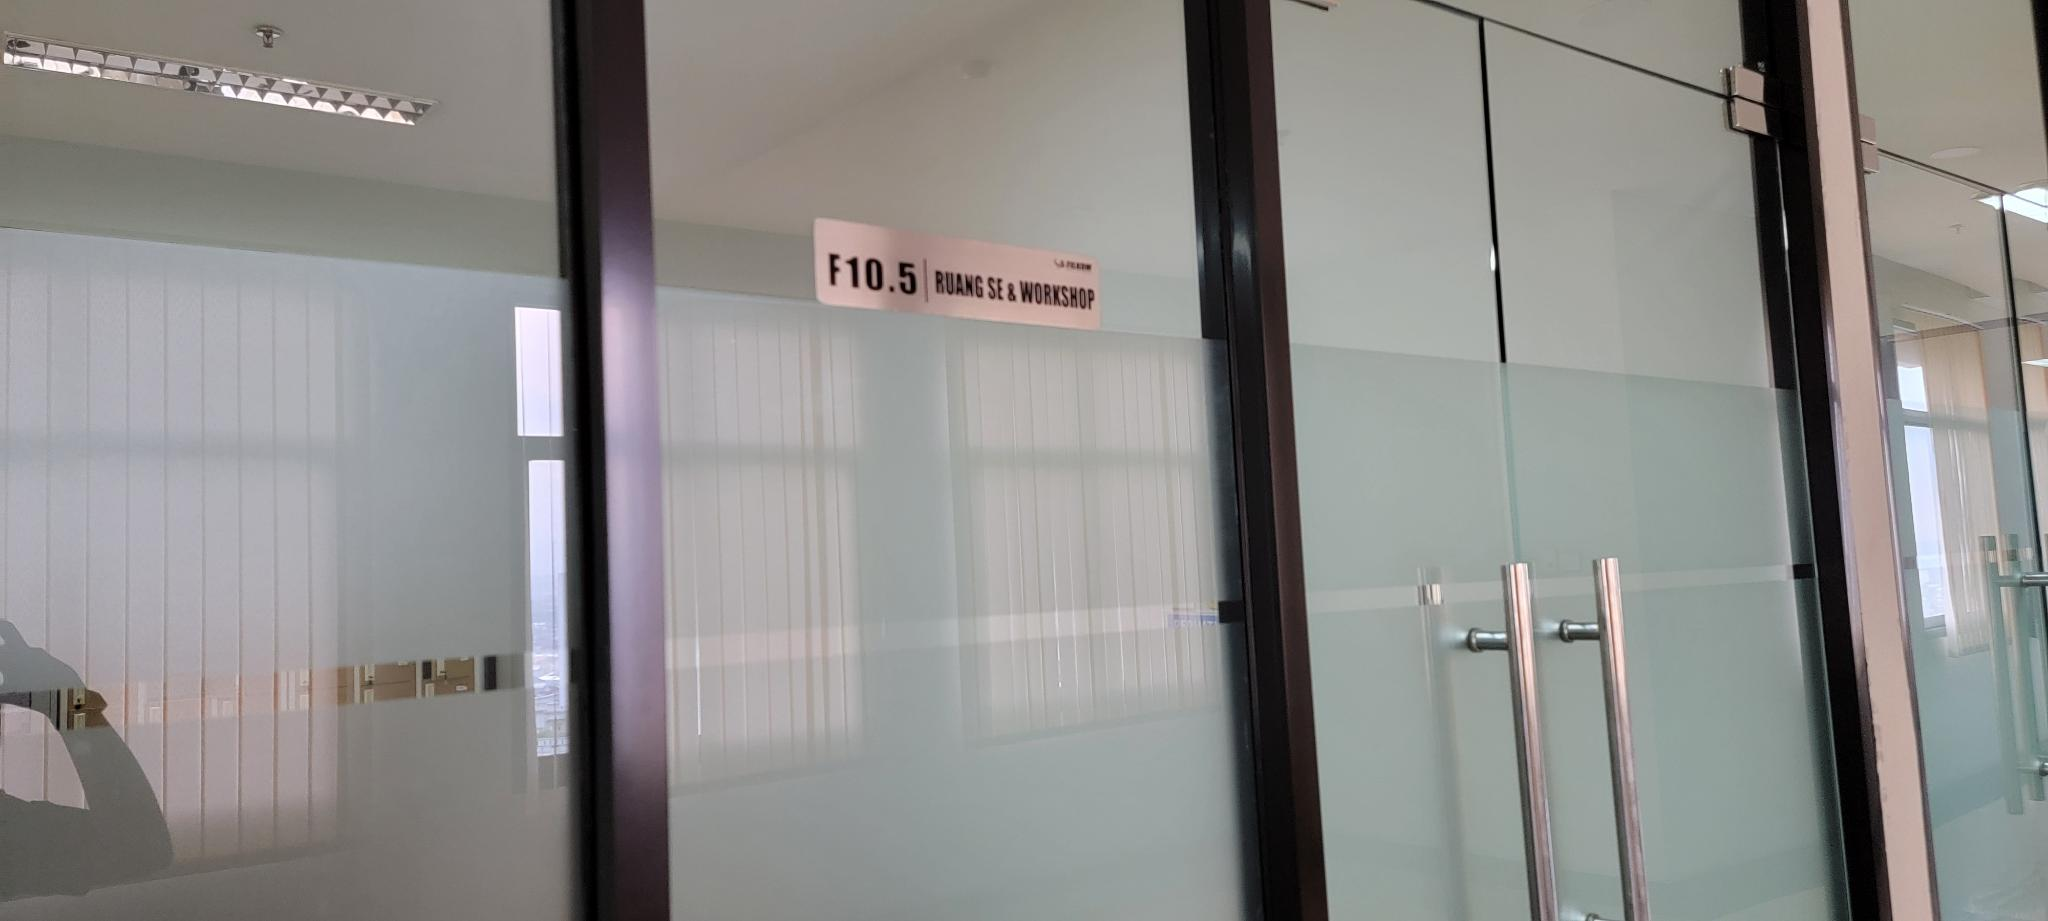plate: (814, 216, 1102, 332)
